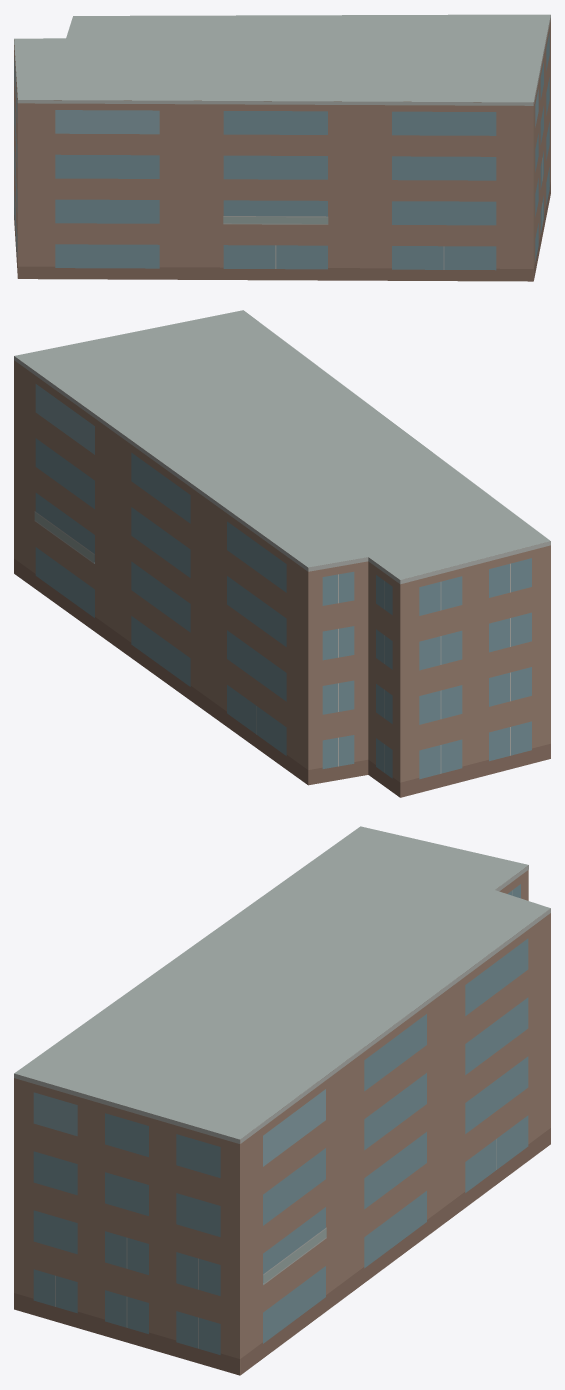
File: survey-upis-32642133.glb
3 renders of one model, top to bottom at view 1: azimuth 30°, elevation 25°; view 2: azimuth 150°, elevation 25°; view 3: azimuth 270°, elevation 25°, orthographic. The views are drawn at different scales.
Visible parts, largest first — view 1: survey-upis-32642133.tmp; view 2: survey-upis-32642133.tmp; view 3: survey-upis-32642133.tmp.
Boxes of the visible parts, left/top/right/bottom form: survey-upis-32642133.tmp: left=14, top=14, right=550, bottom=281; survey-upis-32642133.tmp: left=14, top=310, right=550, bottom=797; survey-upis-32642133.tmp: left=14, top=826, right=550, bottom=1375.
Size of the model in its own units: 35.78 by 12.56 by 25.91.
